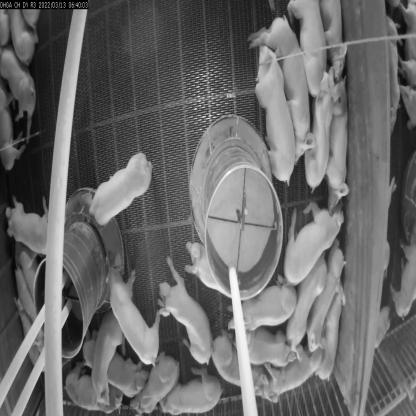Pig: (250, 10, 328, 160), (91, 248, 166, 369), (150, 250, 212, 374), (249, 42, 300, 188), (276, 197, 346, 294), (85, 144, 155, 232), (301, 220, 340, 360), (0, 41, 46, 152), (230, 280, 304, 349), (216, 338, 282, 412), (93, 325, 154, 403), (0, 191, 58, 273), (320, 76, 356, 205), (301, 70, 333, 195), (284, 0, 324, 92), (288, 252, 326, 348), (184, 239, 240, 303), (232, 330, 296, 384), (89, 304, 121, 411), (315, 290, 351, 383), (266, 342, 321, 399), (163, 370, 225, 415), (132, 349, 174, 415), (55, 365, 110, 415)
